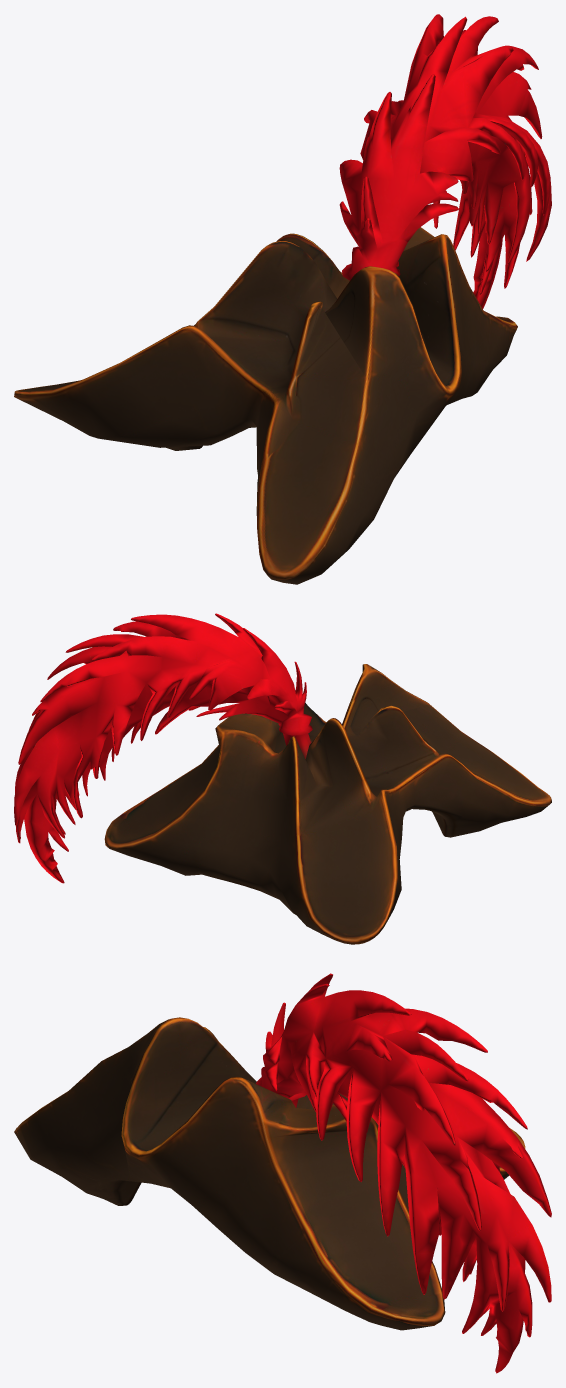
Rendered from hat.glb.
3 renders of one model, top to bottom at view 1: azimuth 30°, elevation 25°; view 2: azimuth 150°, elevation 25°; view 3: azimuth 270°, elevation 25°, orthographic. The views are drawn at different scales.
Parts seen in each view (by area): view 1: tripo_node_435f23f7-66f0-4a5e-8360-47370a6afb69; view 2: tripo_node_435f23f7-66f0-4a5e-8360-47370a6afb69; view 3: tripo_node_435f23f7-66f0-4a5e-8360-47370a6afb69.
Part boxes in pixels (x1,y1,x2,y2): tripo_node_435f23f7-66f0-4a5e-8360-47370a6afb69: (14, 14, 551, 584); tripo_node_435f23f7-66f0-4a5e-8360-47370a6afb69: (14, 613, 551, 944); tripo_node_435f23f7-66f0-4a5e-8360-47370a6afb69: (14, 973, 551, 1373).
Size of the model in its own units: 0.9995 by 0.6646 by 0.9556.
Materials: 1 (1 with a texture image).
